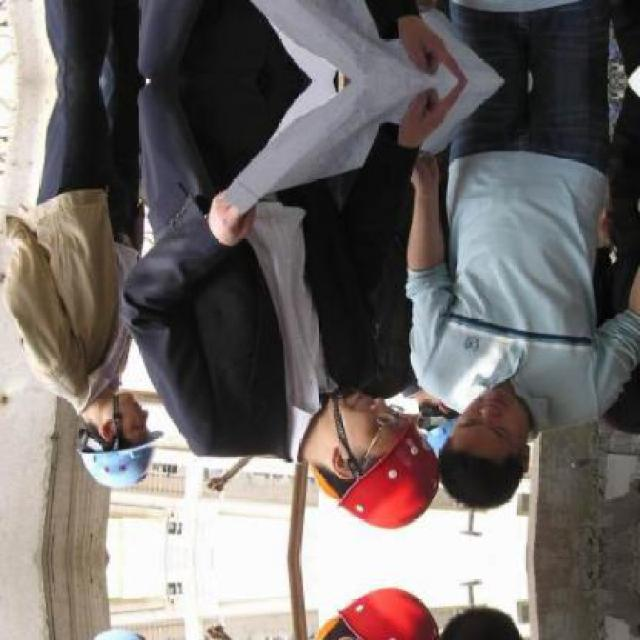safetyhelmet: (336, 417, 436, 531), (75, 408, 155, 491)
